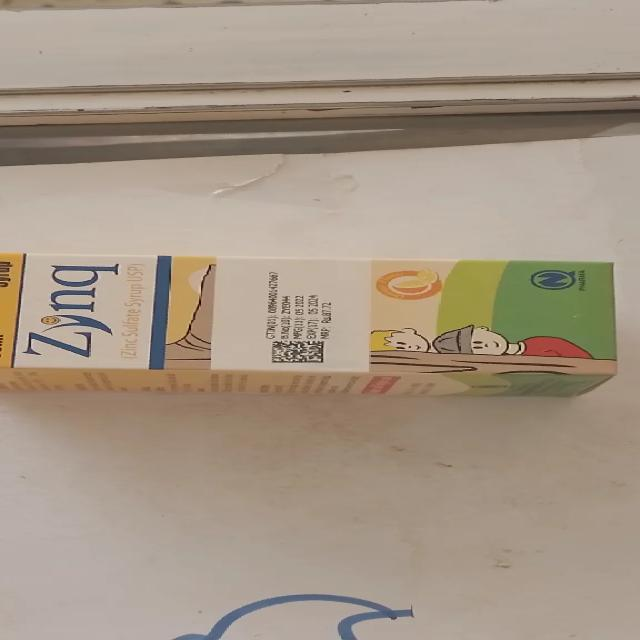drug-name: (22, 264, 123, 360)
